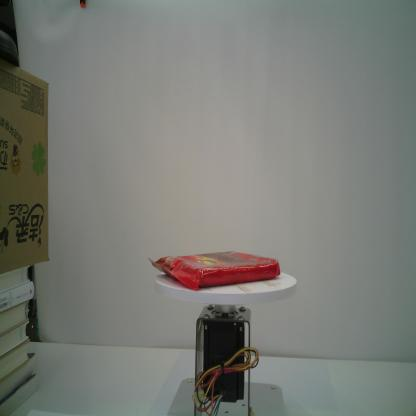Dessert: (148, 250, 282, 292)
